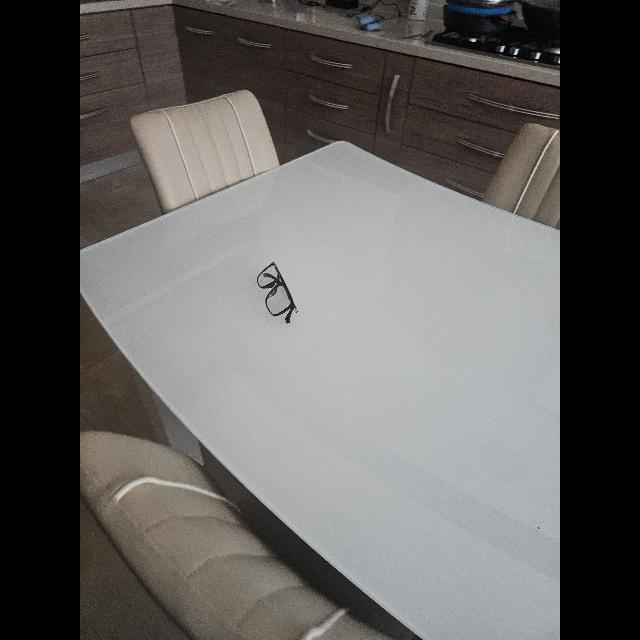glasses: (256, 262, 298, 324)
